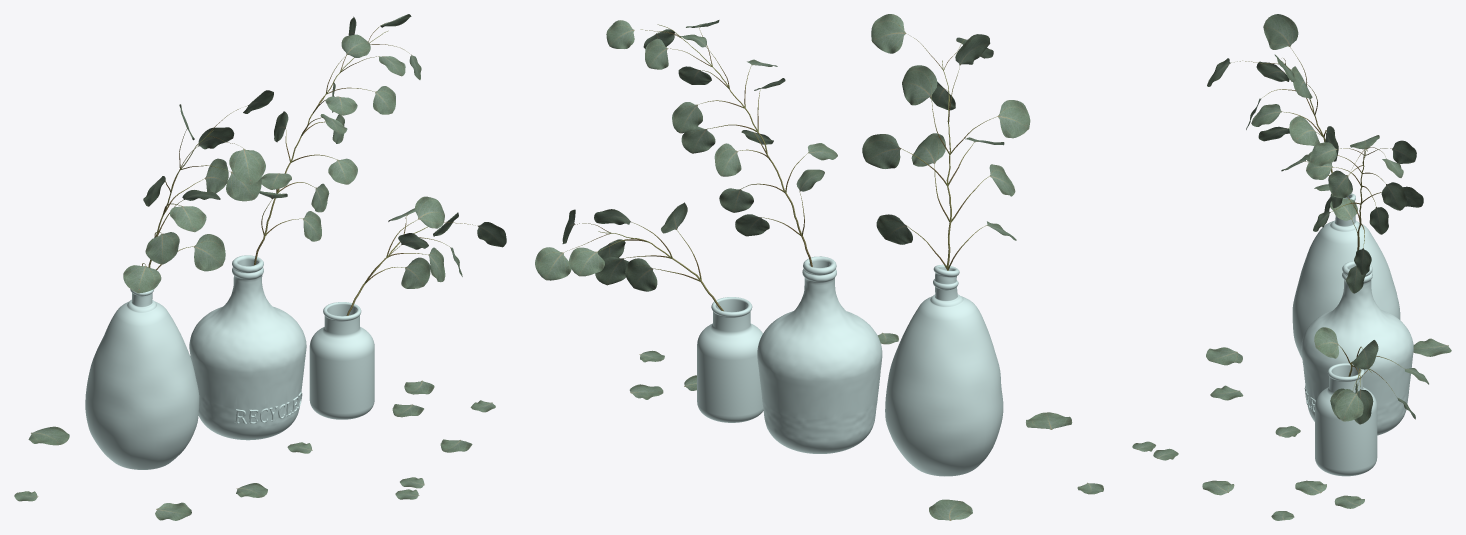
The picture shows the model from 3 angles, left to right: view 1: azimuth 30°, elevation 25°; view 2: azimuth 150°, elevation 25°; view 3: azimuth 270°, elevation 25°; orthographic projection. The views are drawn at different scales.
Visible parts, largest first — view 1: Glass_1_4, Glass_2_1, Eucalyptus_1_3, Glass_3_5, Eucalyptus_2_2, Eucalyptus_3_6, Eucalyptus_leaves_0; view 2: Glass_1_4, Glass_2_1, Eucalyptus_1_3, Eucalyptus_2_2, Glass_3_5, Eucalyptus_3_6, Eucalyptus_leaves_0; view 3: Glass_2_1, Glass_1_4, Eucalyptus_2_2, Glass_3_5, Eucalyptus_1_3, Eucalyptus_leaves_0, Eucalyptus_3_6.
Boxes of the visible parts, x1,y1,x2,y2 form: Glass_1_4: (85,289,199,469); Glass_2_1: (189,255,306,440); Eucalyptus_1_3: (123,90,273,293); Glass_3_5: (309,302,374,419); Eucalyptus_2_2: (253,14,421,265); Eucalyptus_3_6: (346,196,506,315); Eucalyptus_leaves_0: (14,380,495,520); Glass_1_4: (885,264,1003,476); Glass_2_1: (757,256,882,453); Eucalyptus_1_3: (862,14,1030,270); Eucalyptus_2_2: (606,20,837,266); Glass_3_5: (697,297,763,422); Eucalyptus_3_6: (535,202,723,311); Eucalyptus_leaves_0: (629,332,1103,520); Glass_2_1: (1301,261,1413,435); Glass_1_4: (1292,193,1400,358); Eucalyptus_2_2: (1306,135,1423,293); Glass_3_5: (1315,363,1377,476); Eucalyptus_1_3: (1207,14,1338,227); Eucalyptus_leaves_0: (1132,338,1451,520); Eucalyptus_3_6: (1314,327,1428,424).
Bounding box in the file's own units: 0.6196 × 0.4496 × 0.3597.
Materials: 3 (2 with a texture image).
